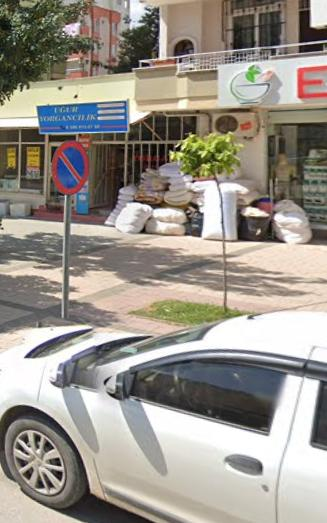stop: (53, 141, 90, 193)
